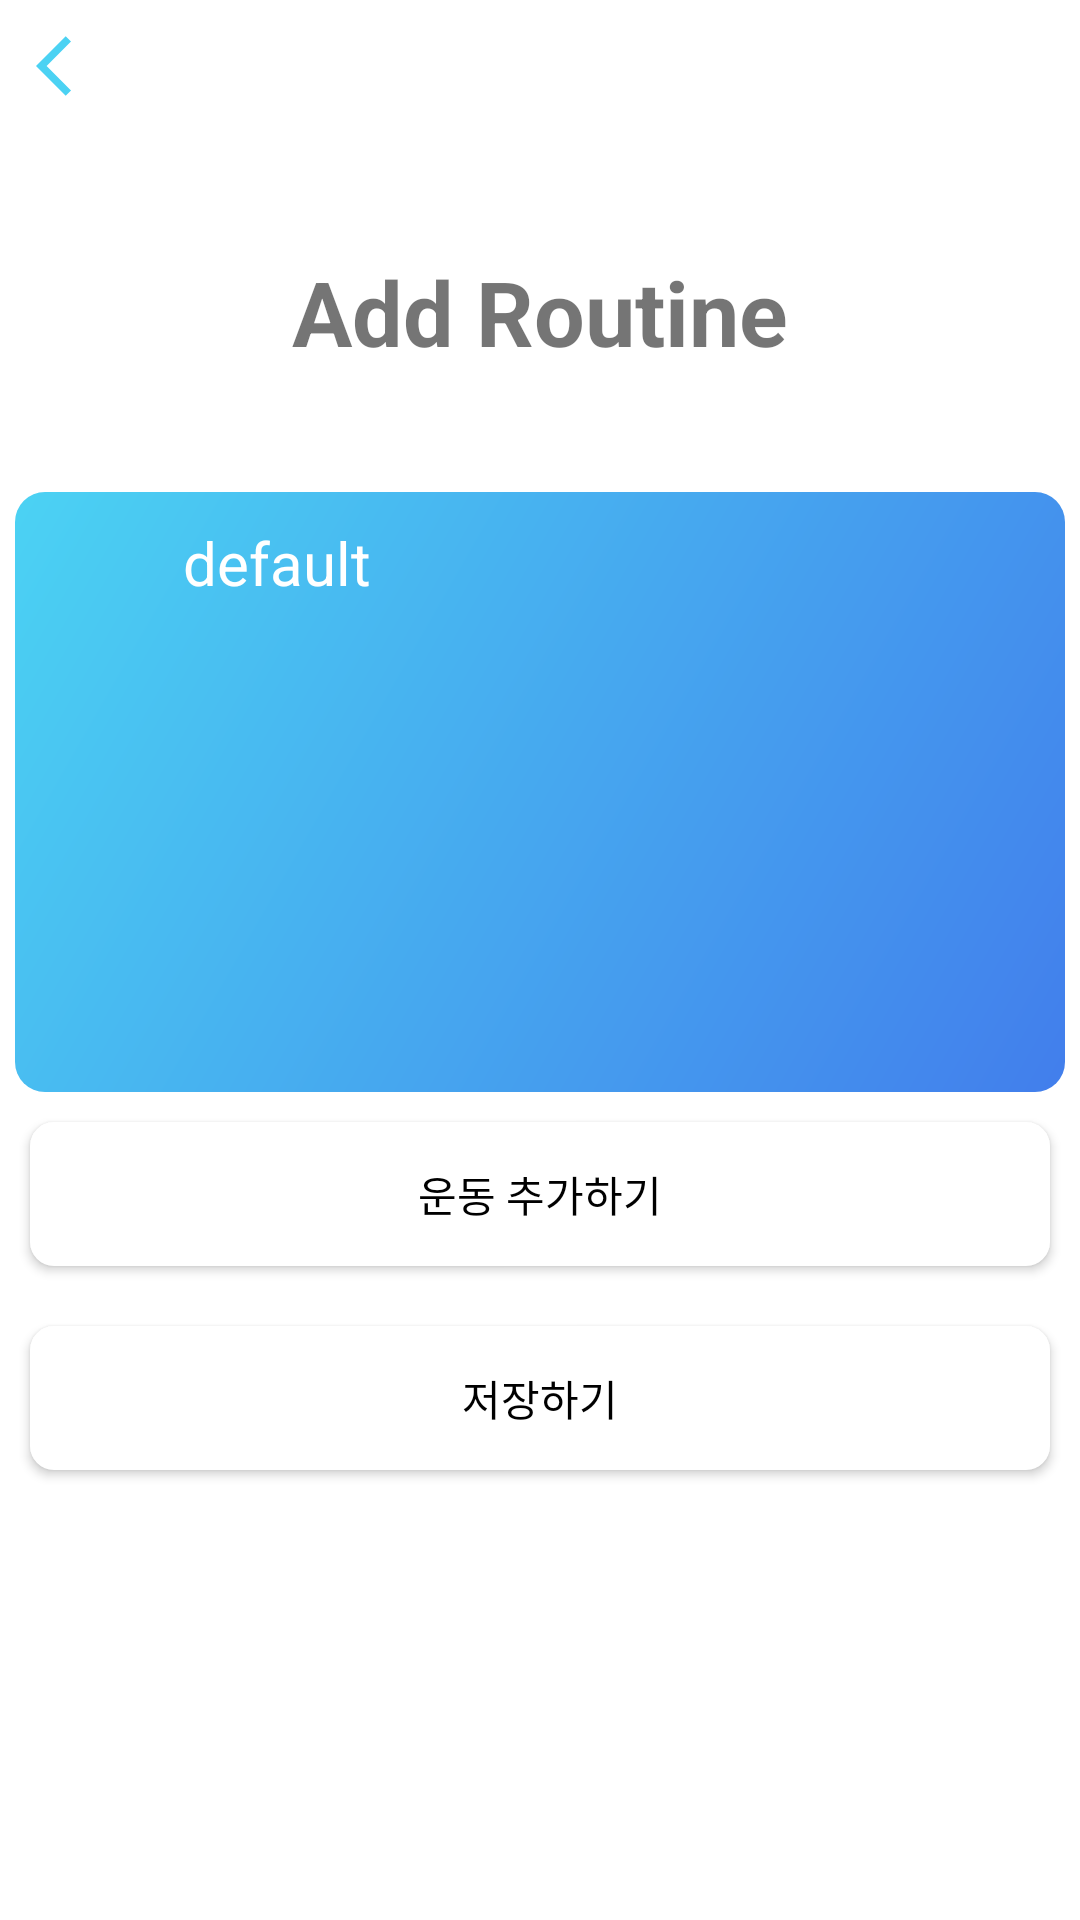

Point at icon controls on the screen. Image size 1080w x 1920h, points as point (x, y).
back: point (53, 66)
